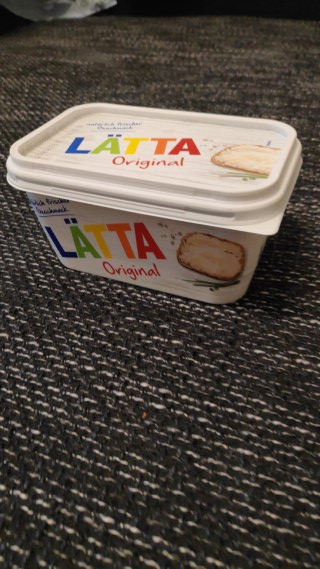laetta: (3, 101, 305, 305)
